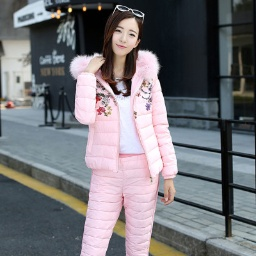face: (101, 6, 147, 73)
